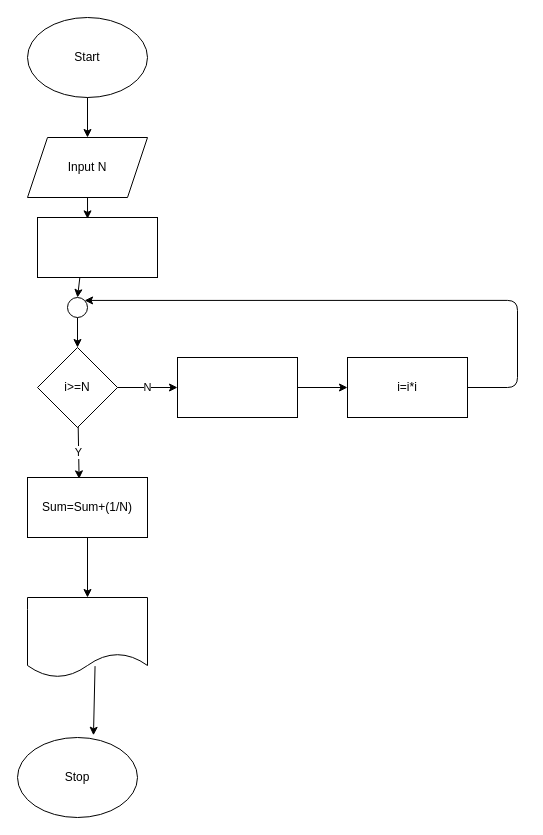
The diagram is 543 pixels wide and 835 high, and some of its shapes have lost their labels. Each missing label, with the centre of its shape:
"Sum" goes at point (87, 637).
"Sum=0 i=2" goes at point (97, 247).
"Sum=Sum+(1/i)" goes at point (237, 387).
